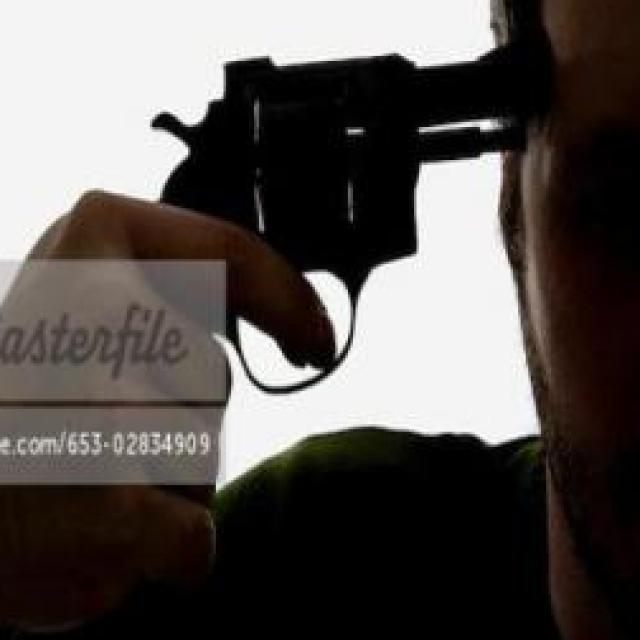pistol: (92, 15, 584, 438)
